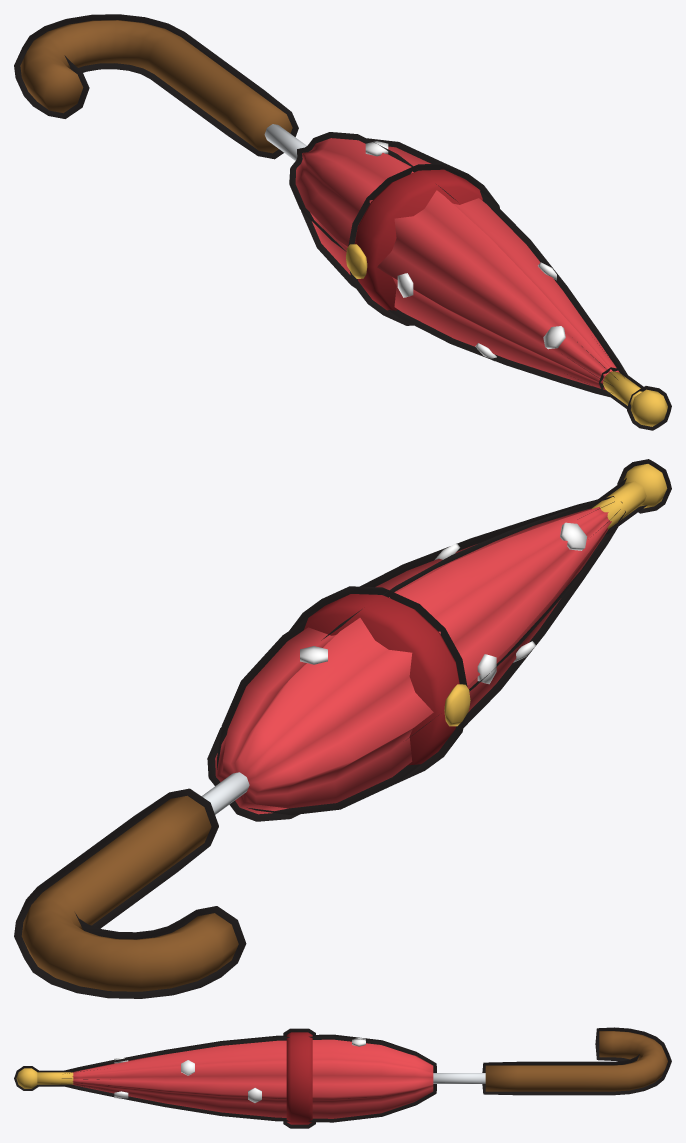
File: umbrella-samurai.glb
3 renders of one model, top to bottom at view 1: azimuth 30°, elevation 25°; view 2: azimuth 150°, elevation 25°; view 3: azimuth 270°, elevation 25°, orthographic. The views are drawn at different scales.
Visible parts, largest first — view 1: Toy_Samurai_Umbrella, Toy_Samurai_Umbrella_Line; view 2: Toy_Samurai_Umbrella, Toy_Samurai_Umbrella_Line; view 3: Toy_Samurai_Umbrella, Toy_Samurai_Umbrella_Line.
Boxes of the visible parts, x1,y1,x2,y2 form: Toy_Samurai_Umbrella: (20,20,667,426); Toy_Samurai_Umbrella_Line: (14,14,671,430); Toy_Samurai_Umbrella: (21,464,667,991); Toy_Samurai_Umbrella_Line: (14,459,671,998); Toy_Samurai_Umbrella: (16,1031,667,1124); Toy_Samurai_Umbrella_Line: (14,1027,671,1128).
Size of the model in its own units: 0.308 by 0.2067 by 1.36.
